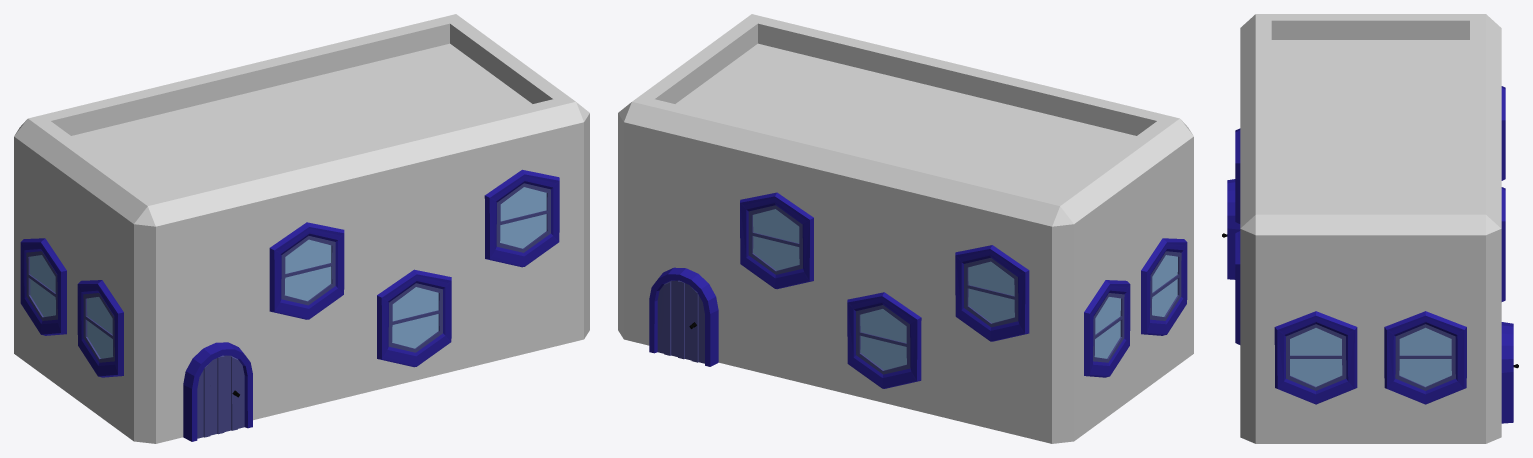
File: HouseSeaDouble2.fbx
3 renders of one model, left to right at view 1: azimuth 30°, elevation 25°; view 2: azimuth 150°, elevation 25°; view 3: azimuth 270°, elevation 25°, orthographic. The views are drawn at different scales.
Parts seen in each view (by area): view 1: Cube.011; view 2: Cube.011; view 3: Cube.011.
Part boxes in pixels (bbox=[...]): Cube.011: bbox=[14, 14, 589, 443]; Cube.011: bbox=[618, 14, 1193, 443]; Cube.011: bbox=[1222, 14, 1518, 443].
Size of the model in its own units: 649 by 309 by 374.
